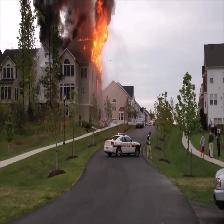fire: (94, 7, 110, 62)
smoke: (36, 4, 92, 39)
